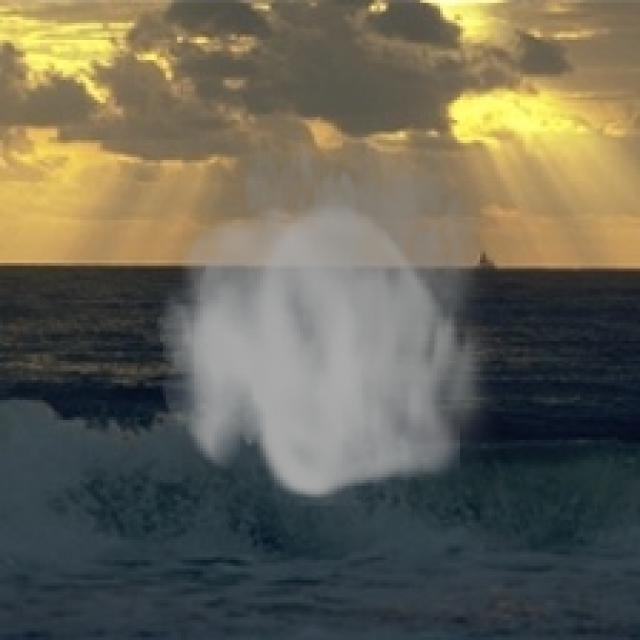Smoke: (157, 97, 506, 506)
